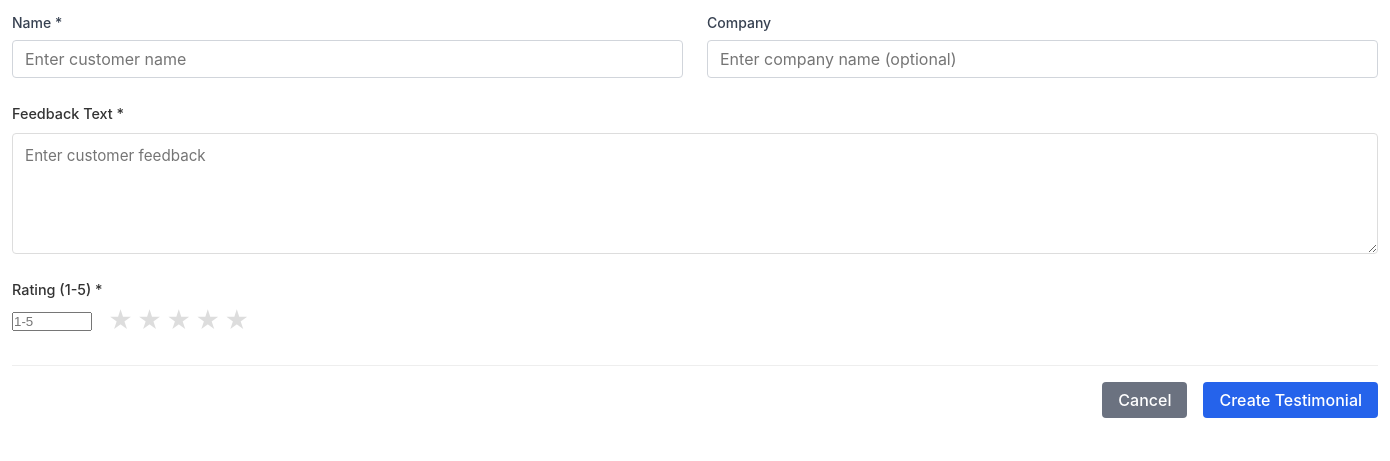
it: TestimonialForm - Real-time Validation › should clear validation error when user corrects the feedback text
# Trigger validation error
Step 1. Click the text box labelled "Feedback Text *" → (695, 194), box [12,133,1378,254]
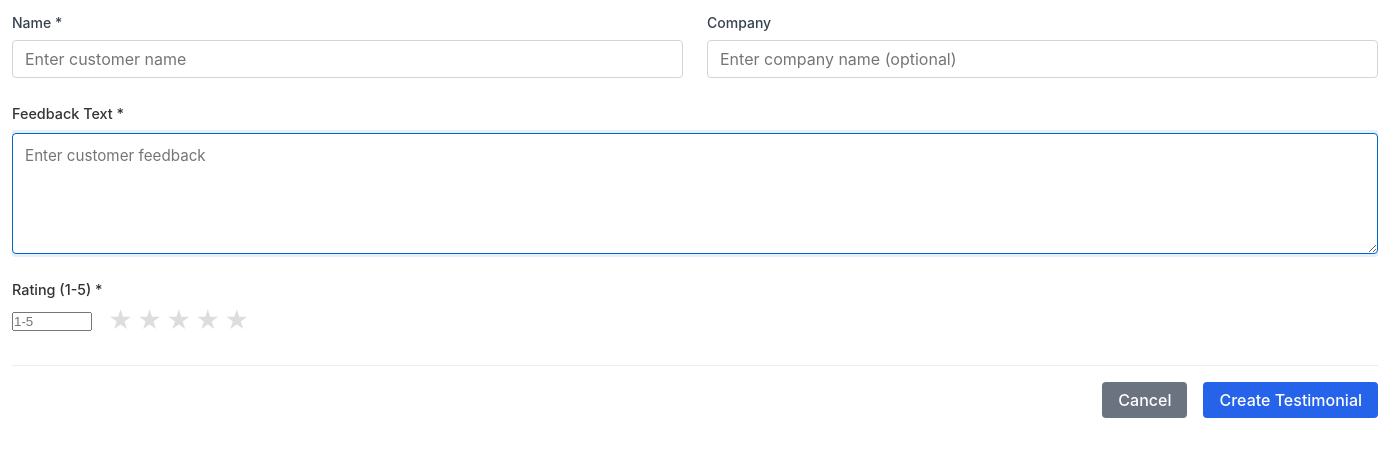
Step 2. Press Tab
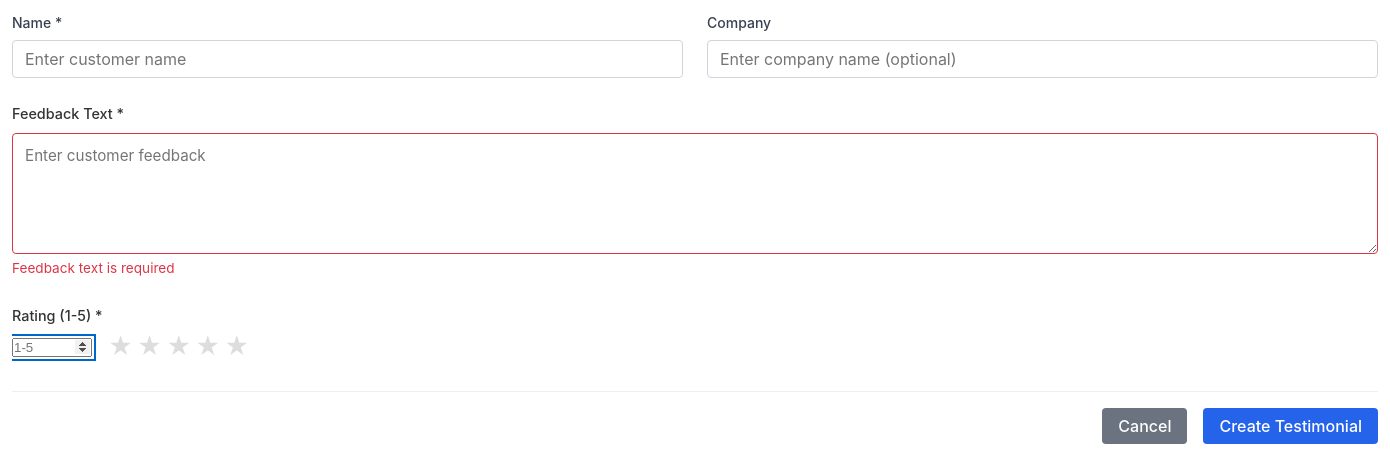
Expected: the text "Feedback text is required" is shown, [12,260,175,276]
# Correct the input
Step 3. Type "Great service!" into the text box labelled "Feedback Text *" → (695, 194), box [12,133,1378,254]
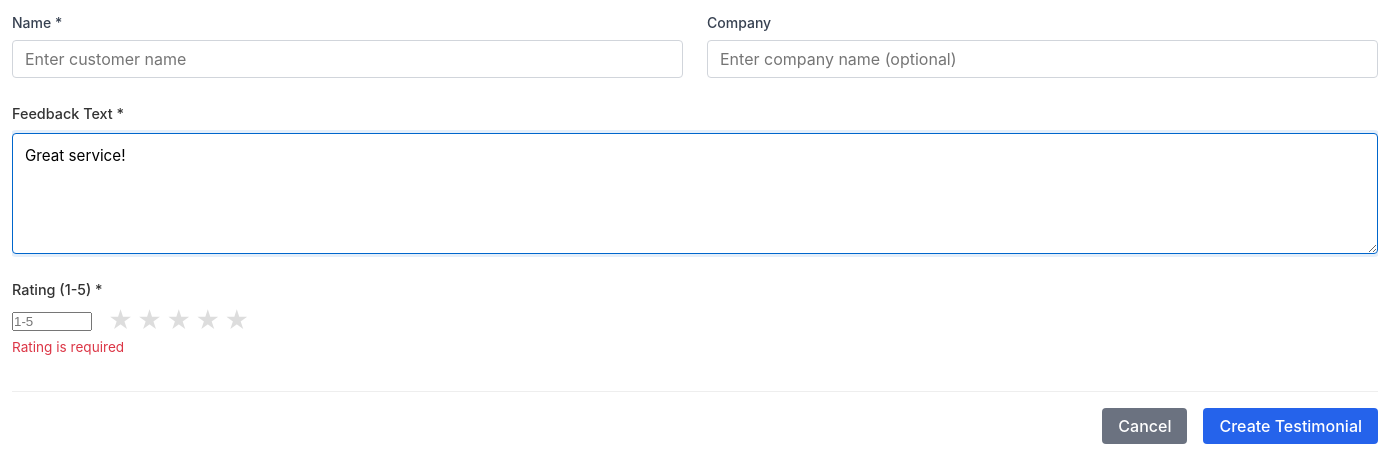
Expected: the text "Feedback text is required" is gone
